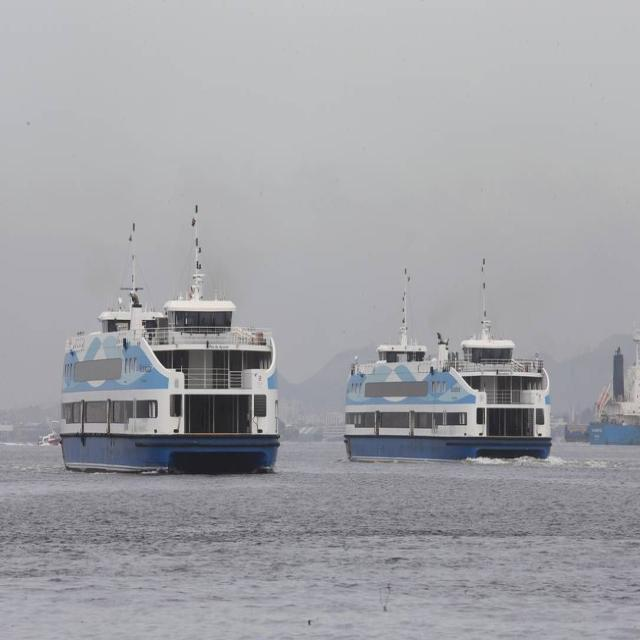Passenger: (60, 206, 280, 471), (344, 259, 552, 459)
